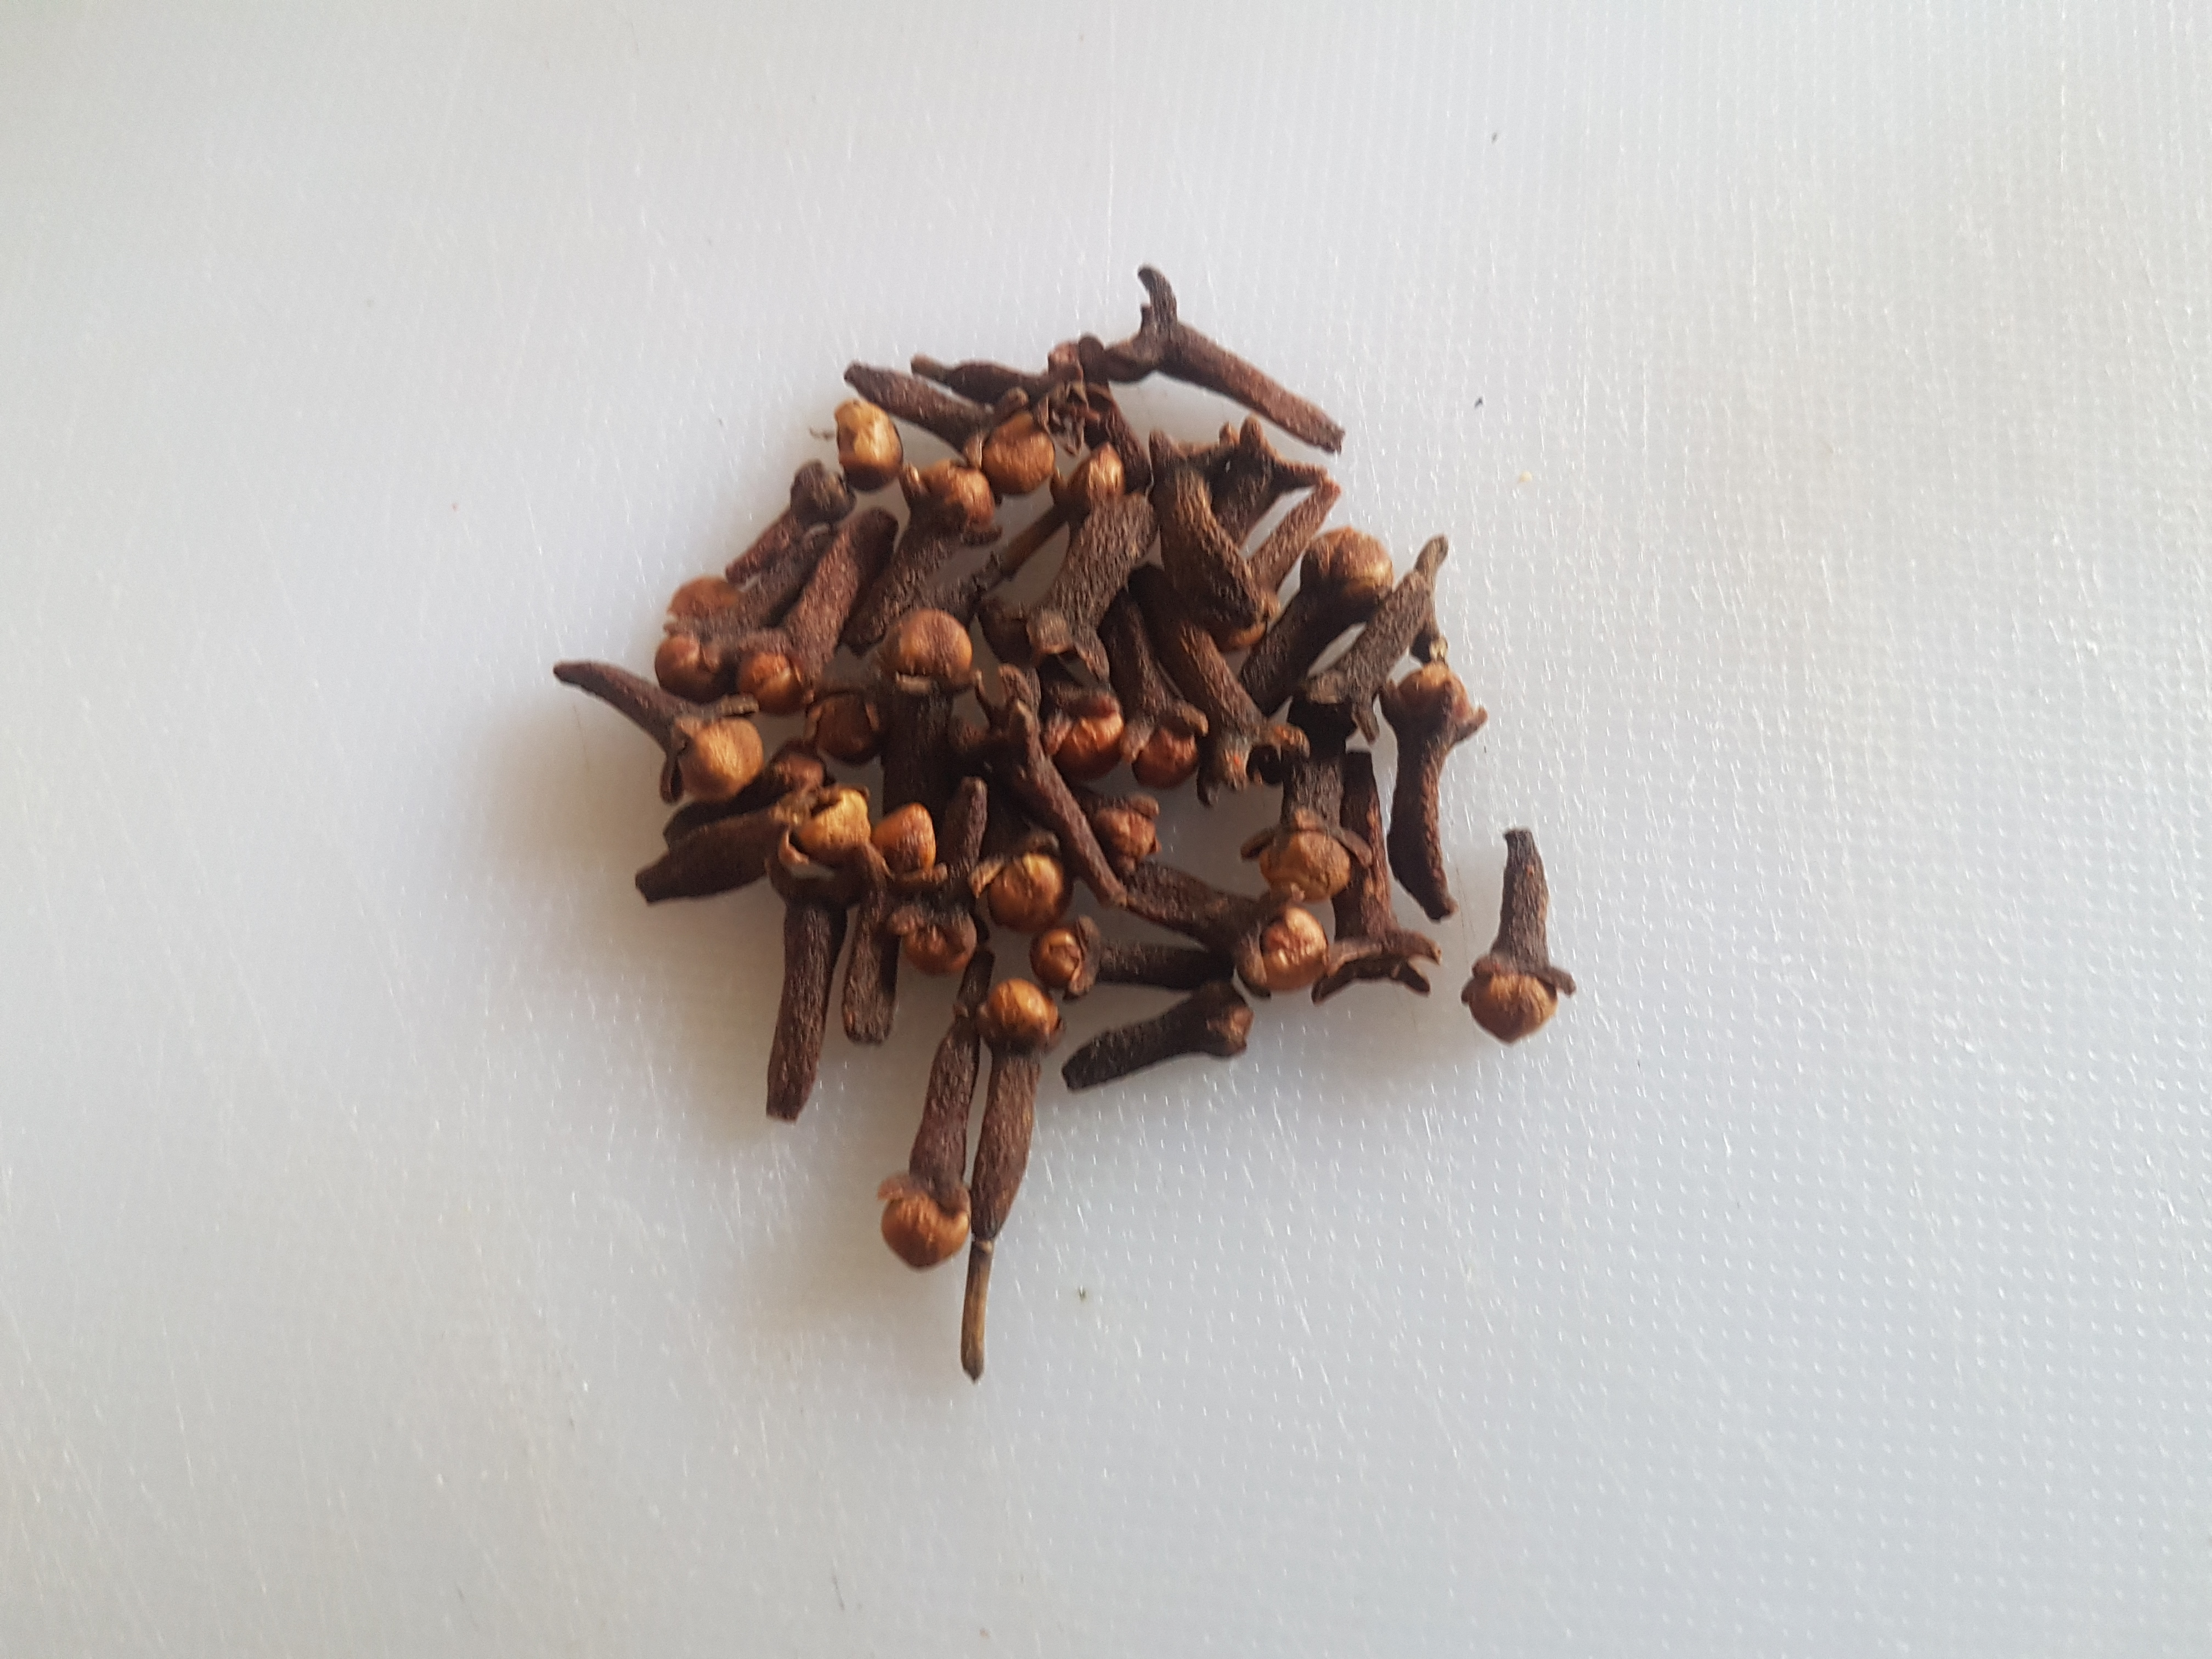Cloves: (549, 260, 1594, 1391)
